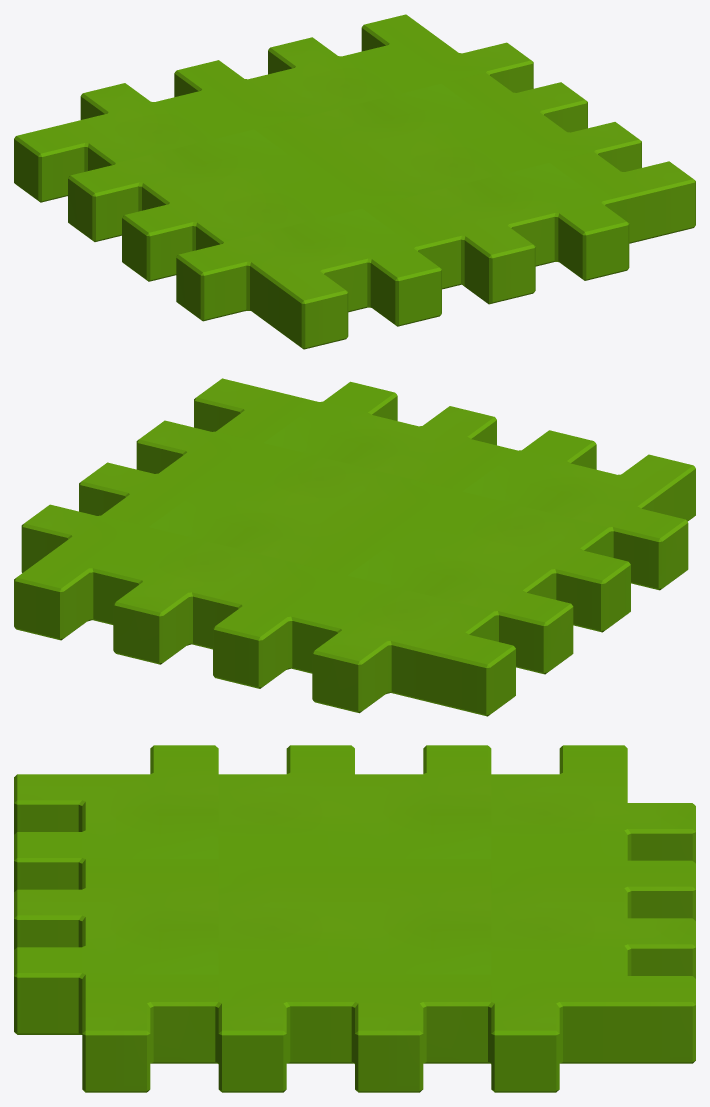
File: GreenSquare.fbx
3 renders of one model, top to bottom at view 1: azimuth 30°, elevation 25°; view 2: azimuth 150°, elevation 25°; view 3: azimuth 270°, elevation 25°, orthographic. The views are drawn at different scales.
Parts seen in each view (by area): view 1: BlueSquare; view 2: BlueSquare; view 3: BlueSquare.
Part boxes in pixels (bbox=[...]): BlueSquare: bbox=[14, 14, 695, 349]; BlueSquare: bbox=[14, 378, 695, 716]; BlueSquare: bbox=[14, 745, 695, 1092].
Size of the model in its own units: 5 by 0.4999 by 5.
